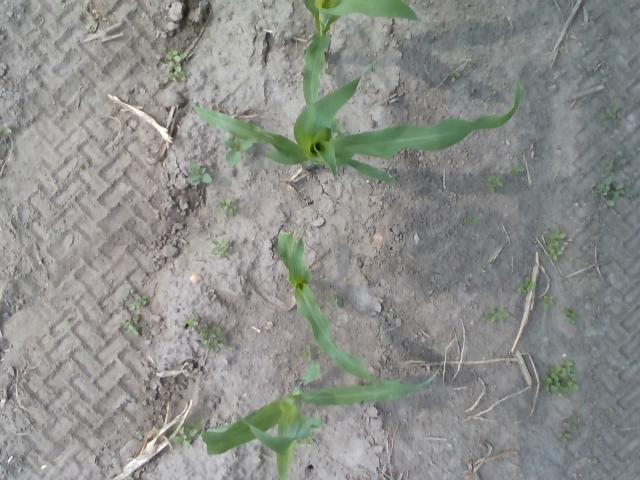Maize: (192, 55, 521, 184), (202, 361, 443, 480), (277, 230, 401, 383), (302, 0, 421, 104)
Weeds: (544, 361, 579, 392), (222, 138, 252, 166), (198, 326, 226, 350), (173, 426, 196, 450), (189, 163, 210, 185), (210, 239, 234, 258), (170, 67, 192, 83), (549, 241, 564, 262), (488, 307, 508, 322), (131, 293, 147, 311), (517, 276, 535, 292), (606, 107, 622, 125), (298, 346, 314, 362), (505, 160, 523, 174), (124, 318, 138, 334), (488, 176, 502, 192), (221, 200, 236, 214), (606, 160, 620, 174), (183, 313, 196, 328), (168, 50, 180, 66), (598, 178, 610, 194), (550, 228, 564, 240), (330, 296, 344, 308), (468, 214, 480, 226), (558, 430, 570, 442), (614, 183, 624, 197), (0, 122, 11, 134), (562, 309, 574, 319), (564, 420, 576, 430), (544, 295, 552, 306)
